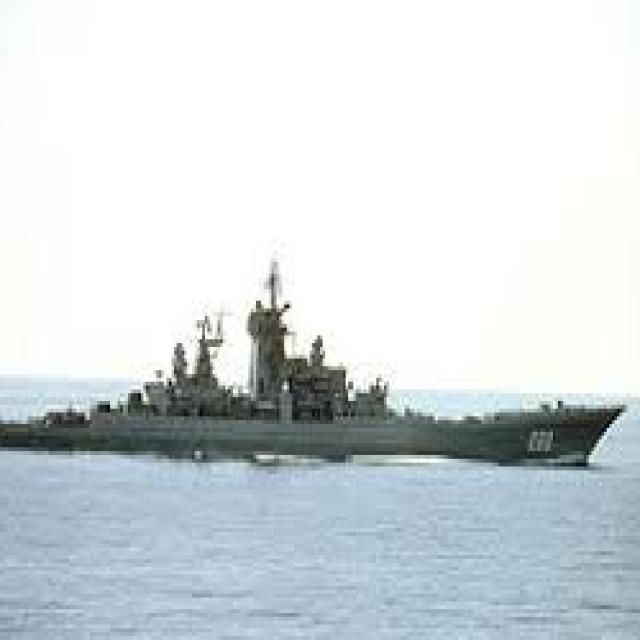navalvessels: (0, 204, 633, 485)
